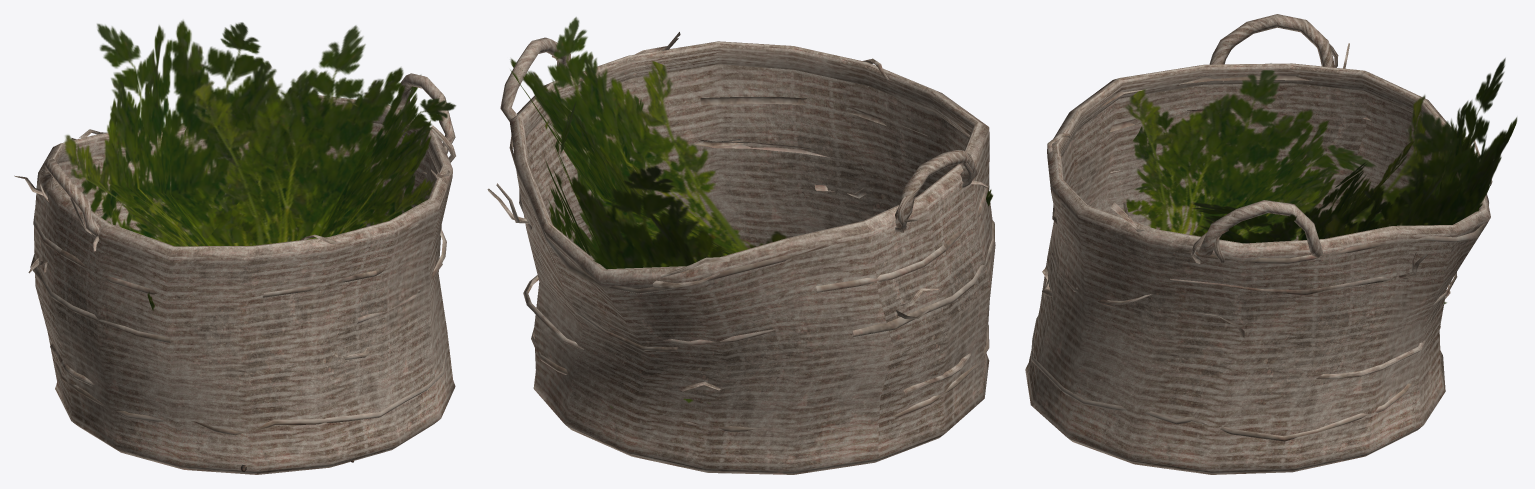
The model's file is basket_carrots.glb.
3 views of the same model, side by side, from view 1: azimuth 30°, elevation 25°; view 2: azimuth 150°, elevation 25°; view 3: azimuth 270°, elevation 25° (orthographic). The views are drawn at different scales.
Visible parts, largest first — view 1: basket carrots_Wicker_0; view 2: basket carrots_Wicker_0; view 3: basket carrots_Wicker_0.
Boxes of the visible parts, left/top/right/bottom form: basket carrots_Wicker_0: left=14, top=20, right=455, bottom=474; basket carrots_Wicker_0: left=487, top=17, right=995, bottom=474; basket carrots_Wicker_0: left=1025, top=14, right=1517, bottom=474.
Size of the model in its own units: 0.5932 by 0.4501 by 0.6131.
Materials: 2 (2 with a texture image).
